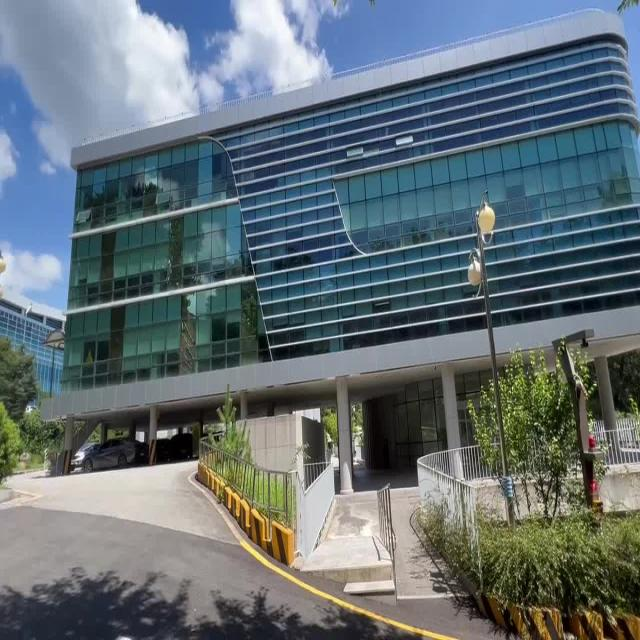building: (73, 19, 640, 365)
